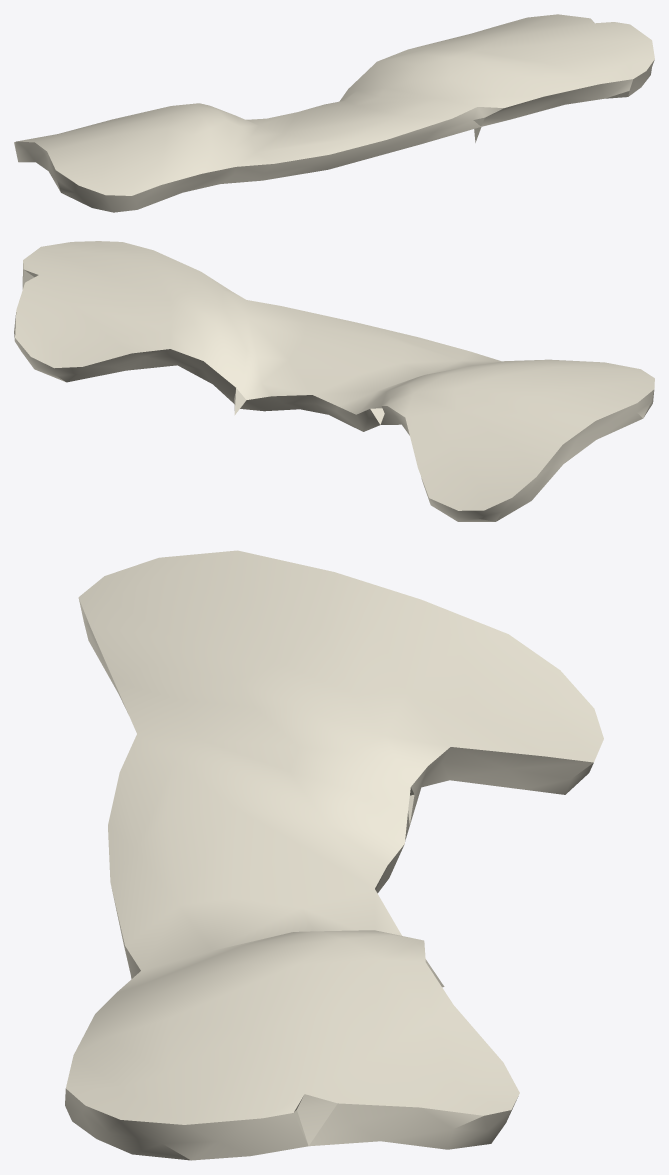
Rendered from fma21489_mm1638.glb.
The picture shows the model from 3 angles, top to bottom: view 1: azimuth 30°, elevation 25°; view 2: azimuth 150°, elevation 25°; view 3: azimuth 270°, elevation 25°; orthographic projection. The views are drawn at different scales.
Visible parts, largest first — view 1: FMA21489_MM1638; view 2: FMA21489_MM1638; view 3: FMA21489_MM1638.
Boxes of the visible parts, x1,y1,x2,y2 form: FMA21489_MM1638: (14,14,654,212); FMA21489_MM1638: (14,241,654,521); FMA21489_MM1638: (65,550,603,1160).
Bounding box in the file's own units: 0.0368 × 0.0045 × 0.0147.
